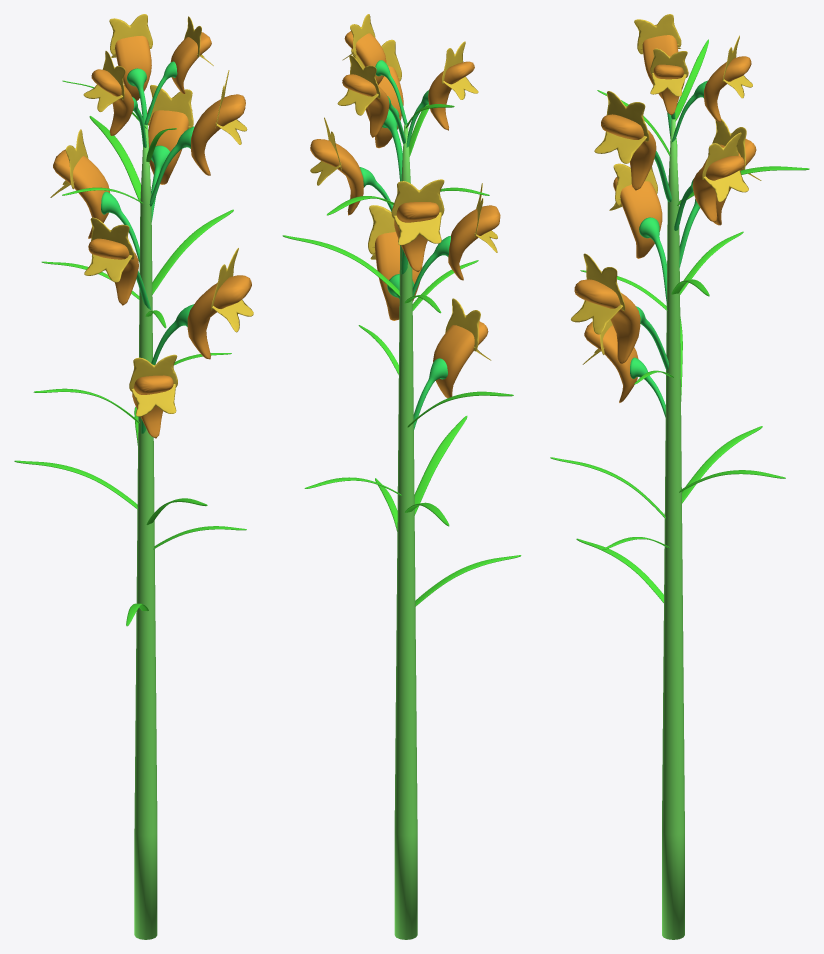
File: yellow toadflax  final.fbx
The picture shows the model from 3 angles, left to right: view 1: azimuth 30°, elevation 25°; view 2: azimuth 150°, elevation 25°; view 3: azimuth 270°, elevation 25°; orthographic projection.
Parts seen in each view (by area): view 1: stem, innen.005, innen, innen.003, innen.001, innen.006, innen.002, innen.007, innen.004, innen.008, petal.001, petal.004 (+11 smaller); view 2: stem, innen.004, innen.002, innen.005, innen.001, innen.003, innen.007, innen.006, petal.003, petal 2.003, innen.008, Circle.001 (+7 smaller); view 3: stem, innen.005, innen.002, innen, innen.001, innen.004, innen.006, petal.007, petal 2.005, petal 2, petal, innen.007 (+11 smaller).
Part boxes in pixels (left/top/right/bottom): stem: left=134, top=124, right=157, bottom=939; innen.005: left=187, top=275, right=251, bottom=359; innen: left=190, top=94, right=245, bottom=175; innen.003: left=53, top=149, right=109, bottom=238; innen.001: left=148, top=110, right=192, bottom=184; innen.006: left=115, top=36, right=151, bottom=100; innen.002: left=88, top=238, right=138, bottom=305; innen.007: left=91, top=69, right=133, bottom=135; innen.004: left=132, top=375, right=173, bottom=438; innen.008: left=170, top=32, right=211, bottom=93; petal.001: left=147, top=85, right=193, bottom=128; petal.004: left=129, top=354, right=177, bottom=391; stem: left=394, top=124, right=417, bottom=939; innen.004: left=433, top=321, right=488, bottom=398; innen.002: left=448, top=205, right=500, bottom=280; innen.005: left=375, top=232, right=422, bottom=320; innen.001: left=310, top=139, right=363, bottom=215; innen.003: left=394, top=202, right=439, bottom=271; innen.007: left=428, top=61, right=474, bottom=130; innen.006: left=342, top=74, right=389, bottom=137; petal.003: left=391, top=179, right=444, bottom=218; petal 2.003: left=393, top=212, right=441, bottom=245; innen.008: left=344, top=31, right=386, bottom=84; Circle.001: left=414, top=416, right=467, bottom=515; stem: left=662, top=119, right=684, bottom=939; innen.005: left=574, top=279, right=640, bottom=364; innen.002: left=613, top=177, right=662, bottom=258; innen: left=601, top=114, right=656, bottom=190; innen.001: left=692, top=155, right=744, bottom=222; innen.004: left=584, top=321, right=638, bottom=402; innen.006: left=704, top=56, right=751, bottom=122; petal.007: left=634, top=14, right=681, bottom=54; petal 2.005: left=571, top=300, right=622, bottom=334; petal 2: left=594, top=131, right=646, bottom=163; petal: left=606, top=91, right=649, bottom=141; innen.007: left=642, top=24, right=678, bottom=98.
Size of the model in its own units: 11.51 by 46.04 by 11.92.
